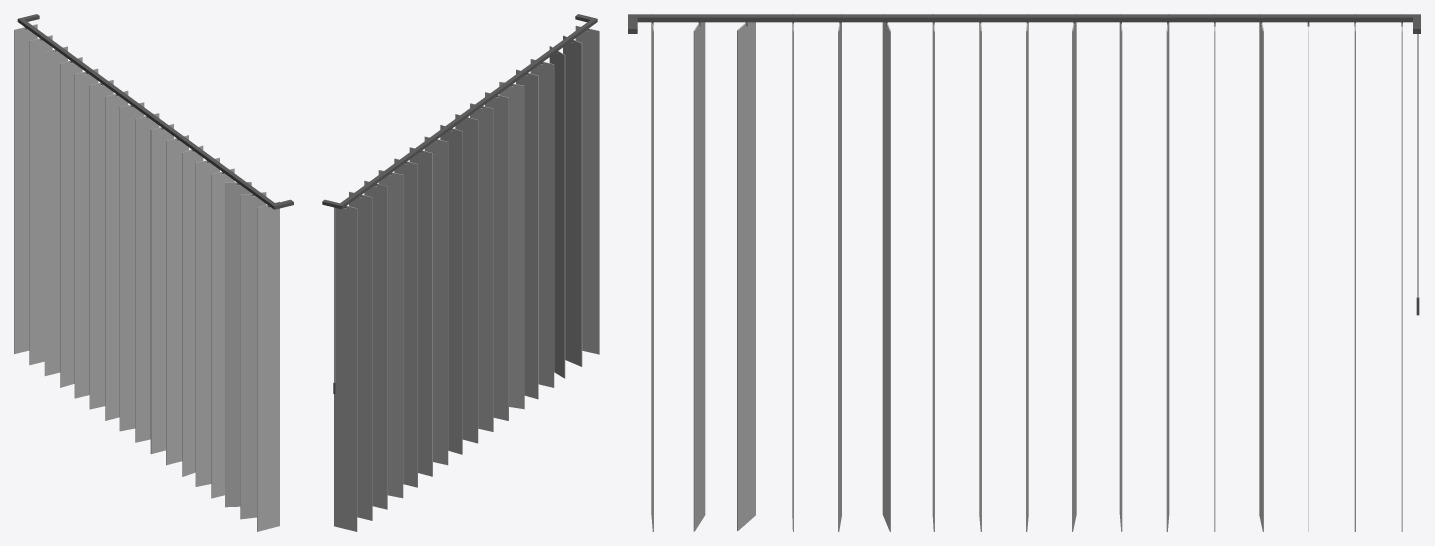
The model's file is Curtain02.fbx.
3 views of the same model, side by side, from view 1: azimuth 30°, elevation 25°; view 2: azimuth 150°, elevation 25°; view 3: azimuth 270°, elevation 25° (orthographic). The views are drawn at different scales.
Visible parts, largest first — view 1: Curtain02; view 2: Curtain02; view 3: Curtain02.
Boxes of the visible parts, x1,y1,x2,y2 form: Curtain02: (14, 14, 293, 531); Curtain02: (322, 14, 599, 531); Curtain02: (628, 14, 1420, 531).
Size of the model in its own units: 0.1696 by 2.6 by 1.84.
